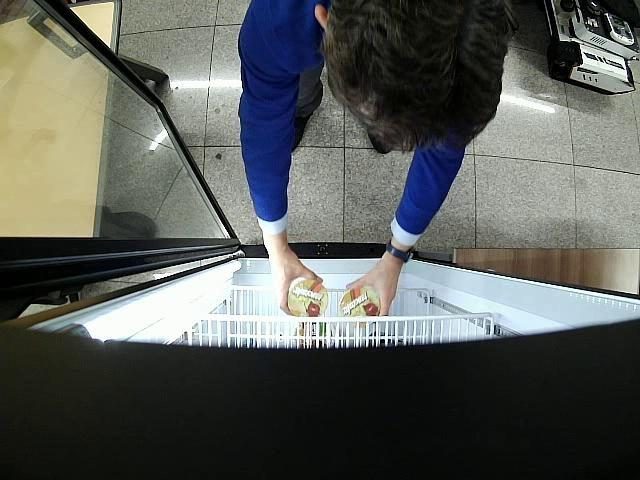04_chapagetti_S: (339, 284, 380, 326), (287, 276, 328, 316)
